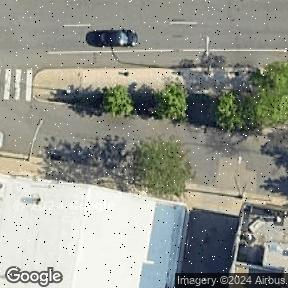vegetation: (132, 135, 194, 200), (159, 82, 188, 121), (104, 86, 134, 116)
